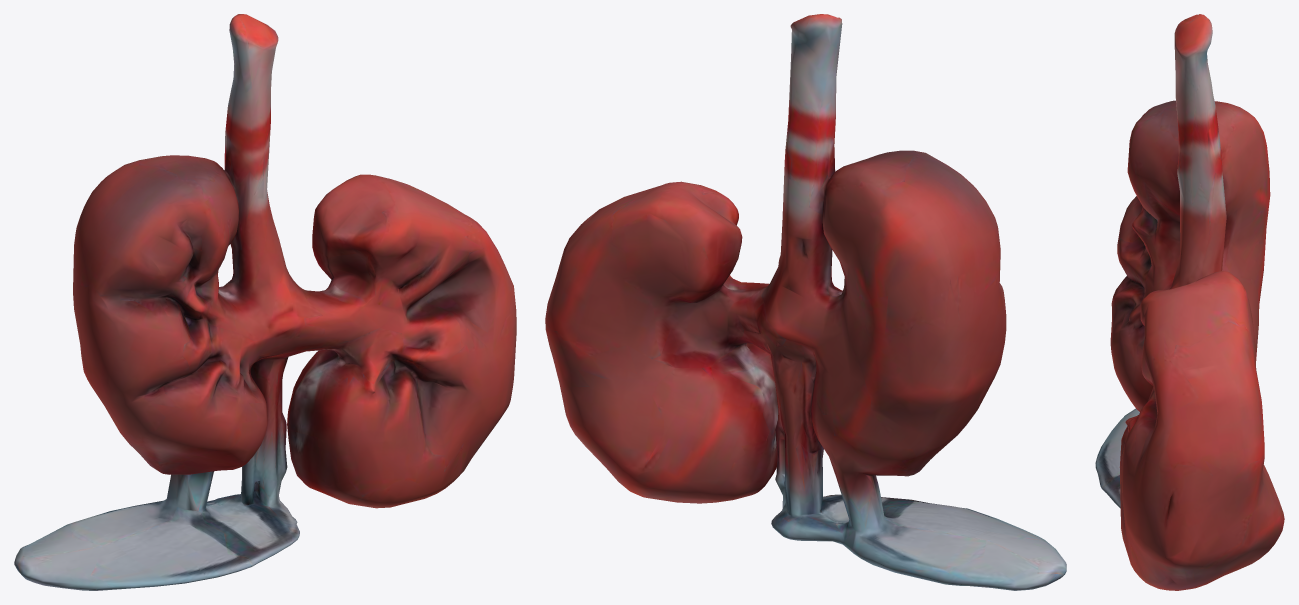
Rendered from kidney.glb.
3 views of the same model, side by side, from view 1: azimuth 30°, elevation 25°; view 2: azimuth 150°, elevation 25°; view 3: azimuth 270°, elevation 25° (orthographic). The views are drawn at different scales.
Parts seen in each view (by area): view 1: Mesh_0; view 2: Mesh_0; view 3: Mesh_0.
Boxes of the visible parts, left/top/right/bottom form: Mesh_0: left=14, top=14, right=516, bottom=590; Mesh_0: left=545, top=14, right=1066, bottom=590; Mesh_0: left=1095, top=14, right=1284, bottom=590.
Size of the model in its own units: 2 by 1.98 by 0.6865.
1 material, 1 textured.
